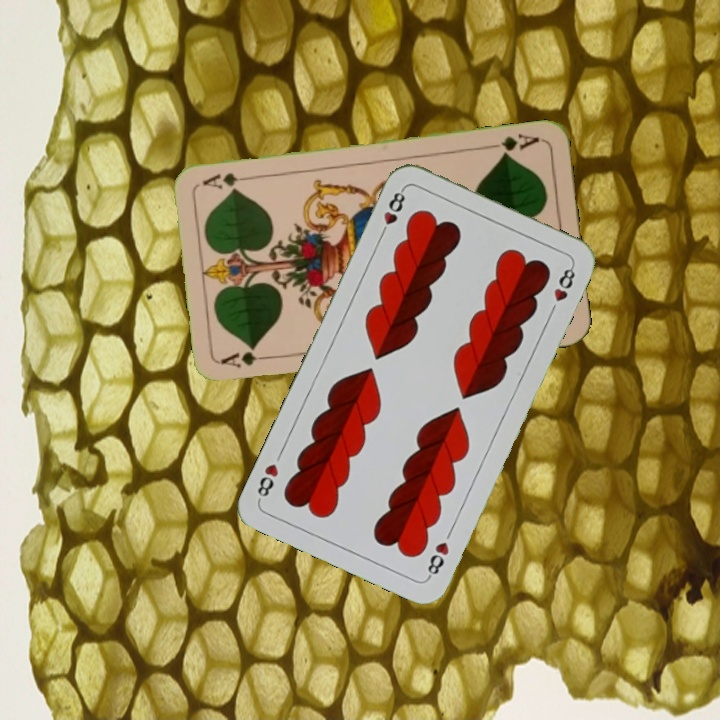GA: (484, 129, 542, 159), (218, 348, 277, 370)
H8: (376, 184, 408, 240), (423, 537, 452, 581)
